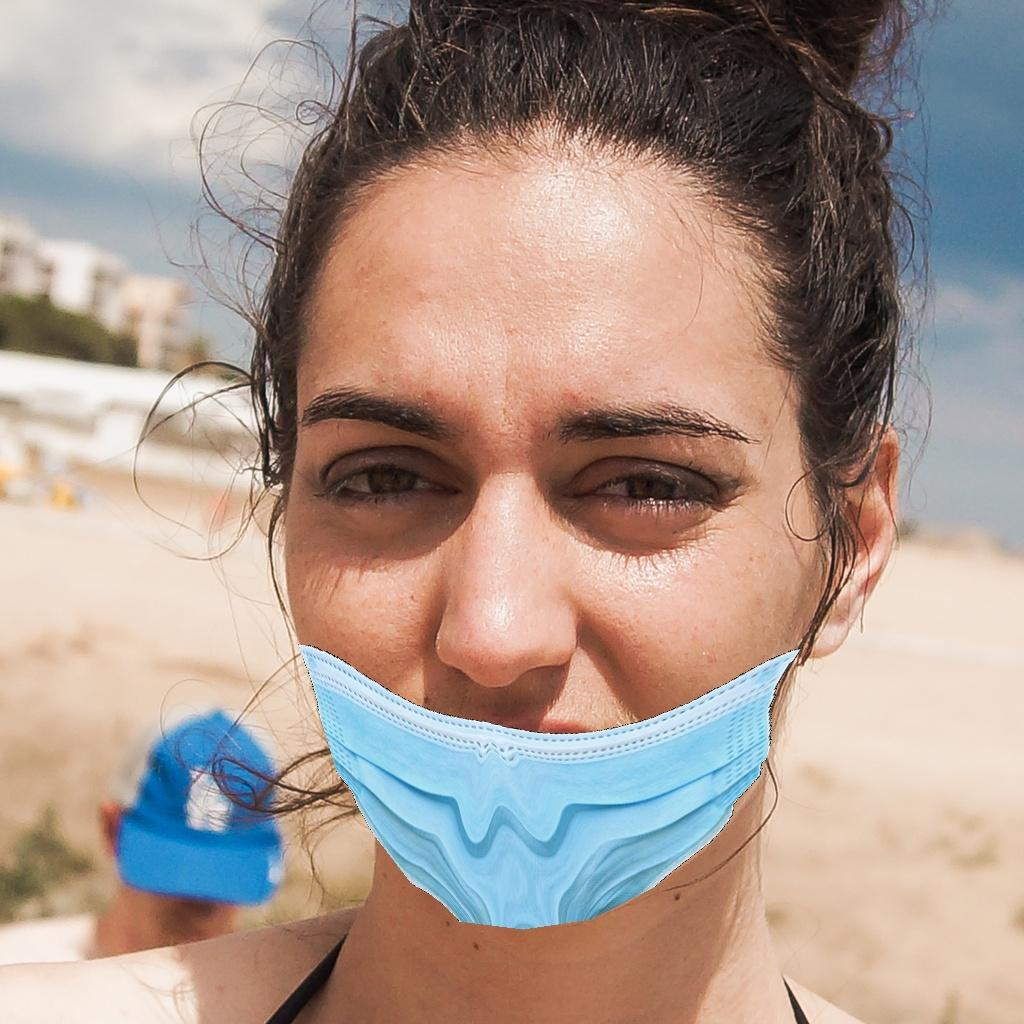Máscara Incorreta: (260, 228, 877, 916)
